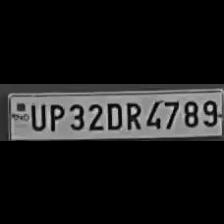2: (84, 98, 104, 130)
3: (65, 100, 84, 130)
4: (143, 97, 163, 129)
7: (160, 97, 178, 129)
8: (180, 96, 200, 128)
9: (200, 96, 218, 127)
D: (104, 99, 122, 129)
P: (46, 99, 64, 130)
R: (122, 98, 142, 130)
U: (27, 99, 45, 130)
